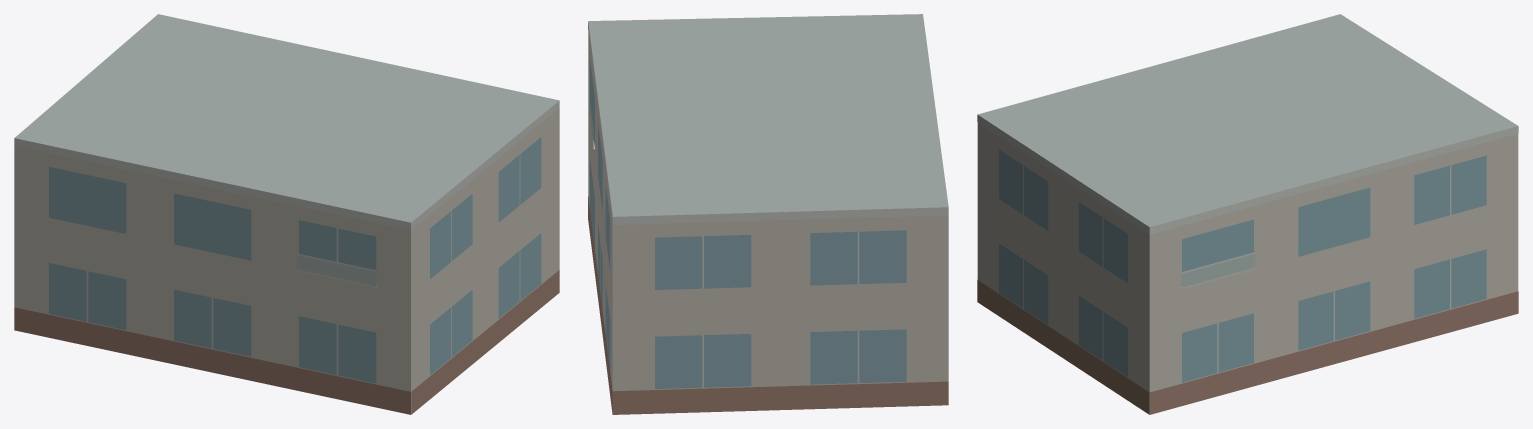
The model's file is survey-upis-32734055.glb.
3 views of the same model, side by side, from view 1: azimuth 30°, elevation 25°; view 2: azimuth 150°, elevation 25°; view 3: azimuth 270°, elevation 25° (orthographic). The views are drawn at different scales.
Visible parts, largest first — view 1: survey-upis-32734055.tmp; view 2: survey-upis-32734055.tmp; view 3: survey-upis-32734055.tmp.
Boxes of the visible parts, box(x1,y1,x2,y2) form: survey-upis-32734055.tmp: box(14, 14, 559, 414); survey-upis-32734055.tmp: box(588, 14, 948, 414); survey-upis-32734055.tmp: box(977, 14, 1518, 414).
Bounding box in the file's own units: 14.88 × 6.1 × 15.95.
